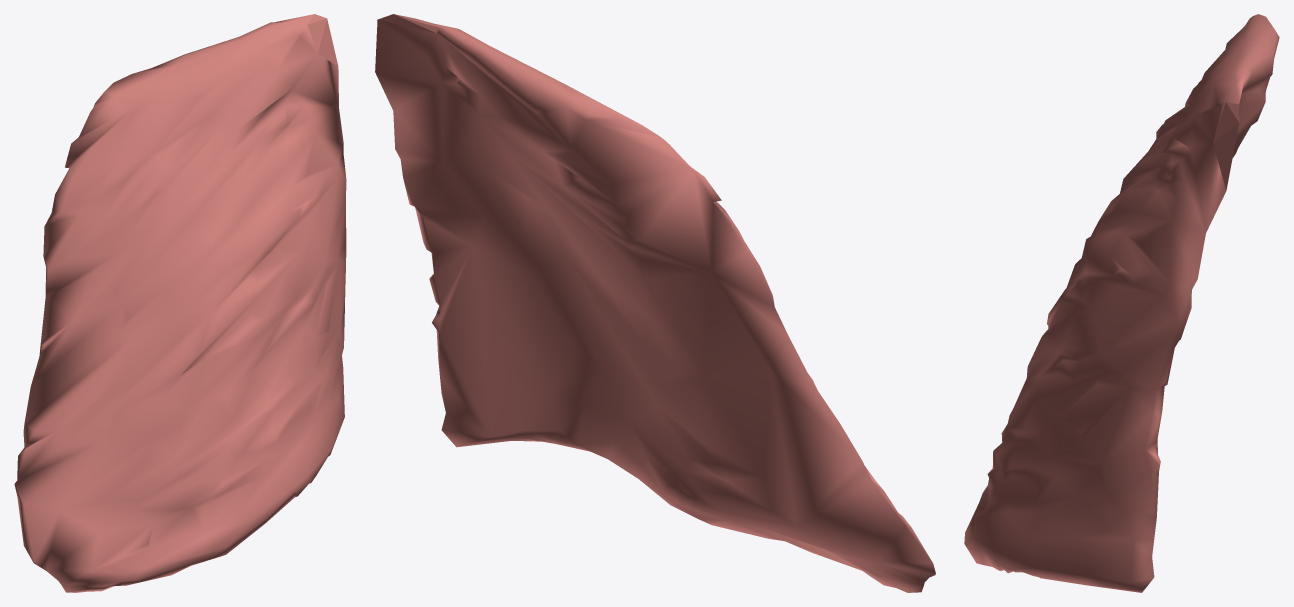
3 views of the same model, side by side, from view 1: azimuth 30°, elevation 25°; view 2: azimuth 150°, elevation 25°; view 3: azimuth 270°, elevation 25° (orthographic). The views are drawn at different scales.
Visible parts, largest first — view 1: ZA_e3bd723aa71aa063; view 2: ZA_e3bd723aa71aa063; view 3: ZA_e3bd723aa71aa063.
Part boxes in pixels (x1,y1,x2,y2): ZA_e3bd723aa71aa063: (14, 14, 346, 592); ZA_e3bd723aa71aa063: (375, 14, 935, 592); ZA_e3bd723aa71aa063: (964, 14, 1279, 592).
Bounding box in the file's own units: 0.0466 × 0.0521 × 0.0247.
